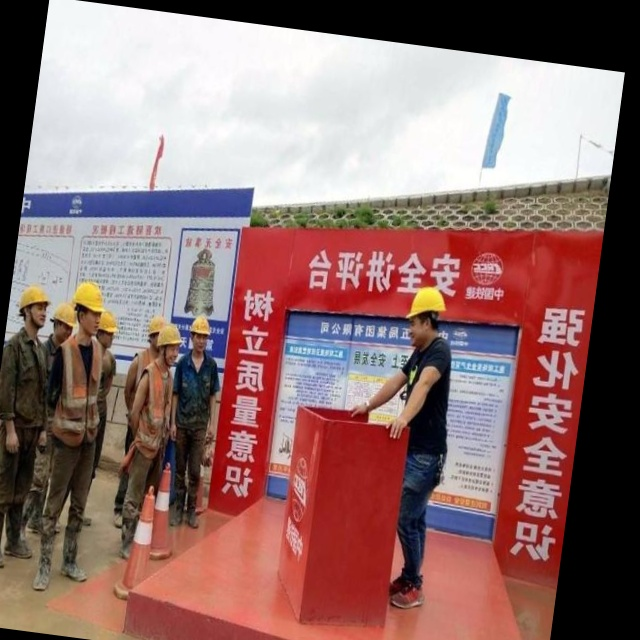Con_Casco: (402, 284, 446, 349)
